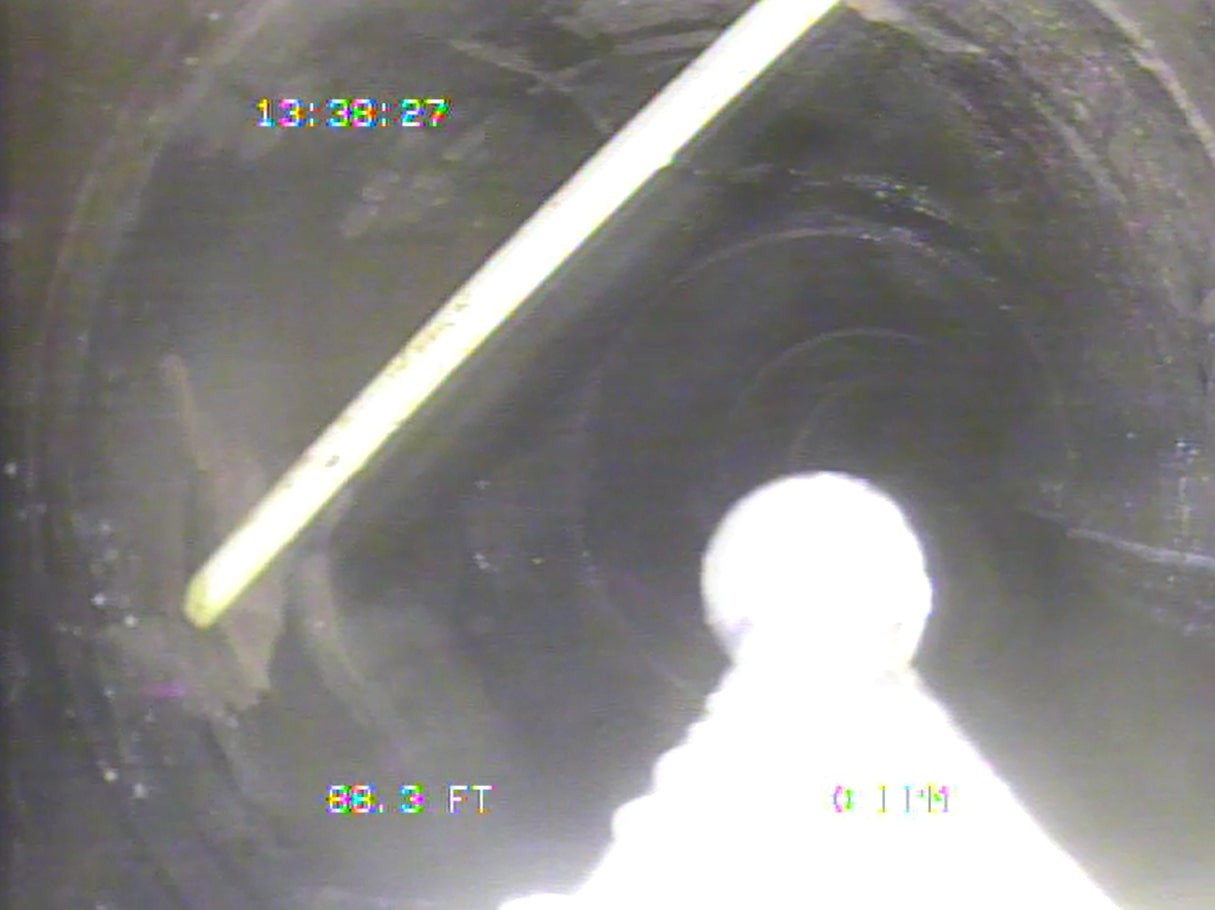cb: (128, 26, 743, 656)
